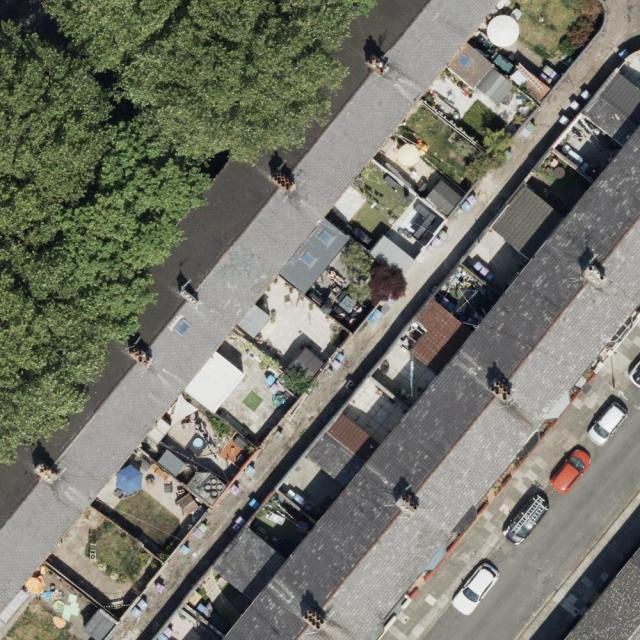roof: (0, 0, 500, 621), (210, 69, 640, 640), (569, 546, 640, 640)
skylight: (295, 247, 318, 269), (311, 226, 335, 247), (171, 315, 192, 335), (455, 47, 474, 68)
